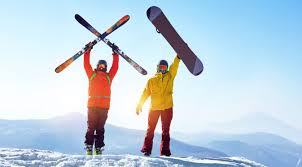snowboard: (145, 6, 204, 77)
